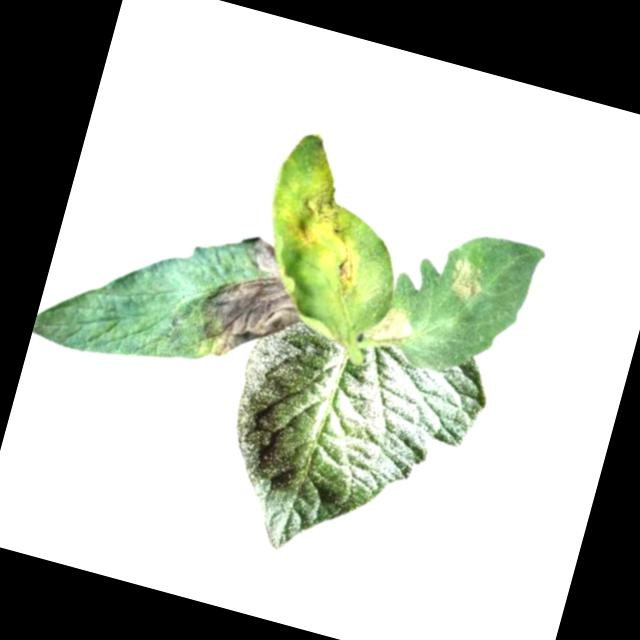Late_blight: (188, 226, 316, 377), (273, 169, 356, 252), (362, 300, 418, 352), (443, 255, 491, 307), (326, 245, 361, 301), (305, 139, 333, 174)
healthy: (200, 299, 498, 593)
